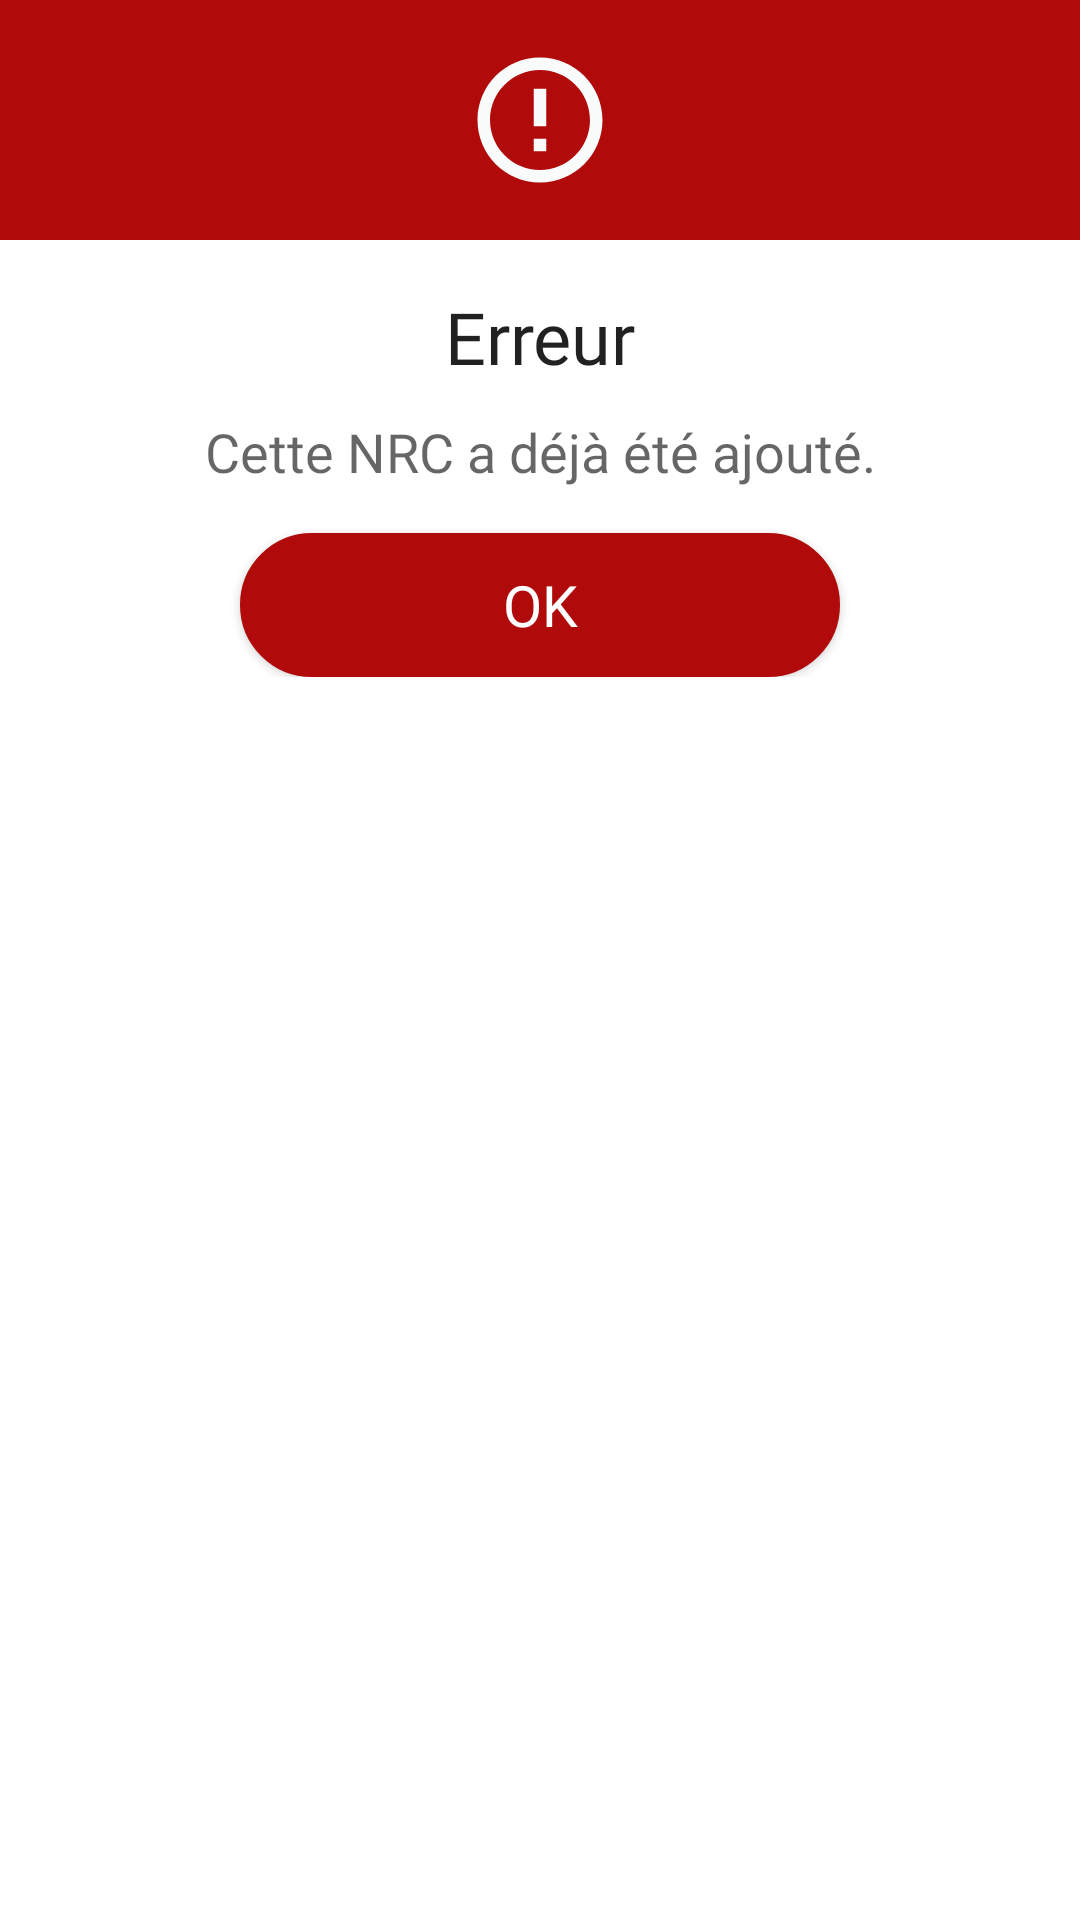

Named icons in this screenshot (1080 x 1920) and their bounding boxes, box=[x1, y1, x2, y2]:
nrc error: box=[477, 57, 603, 183]
